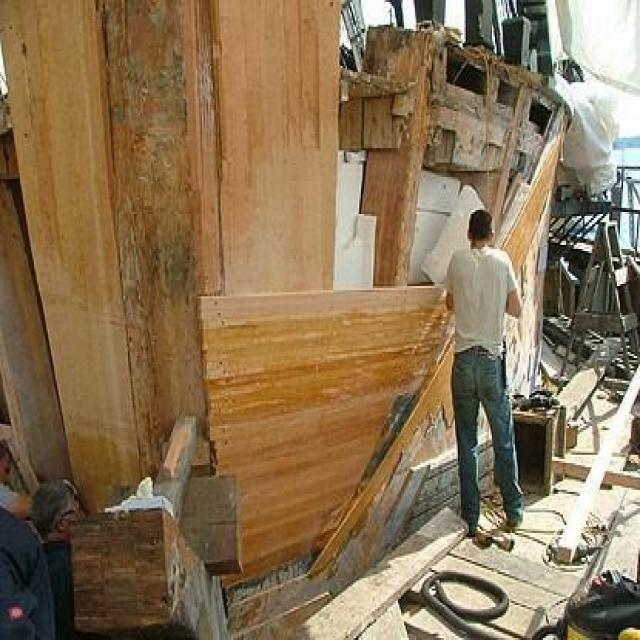sin_chaleco: (446, 243, 512, 362)
